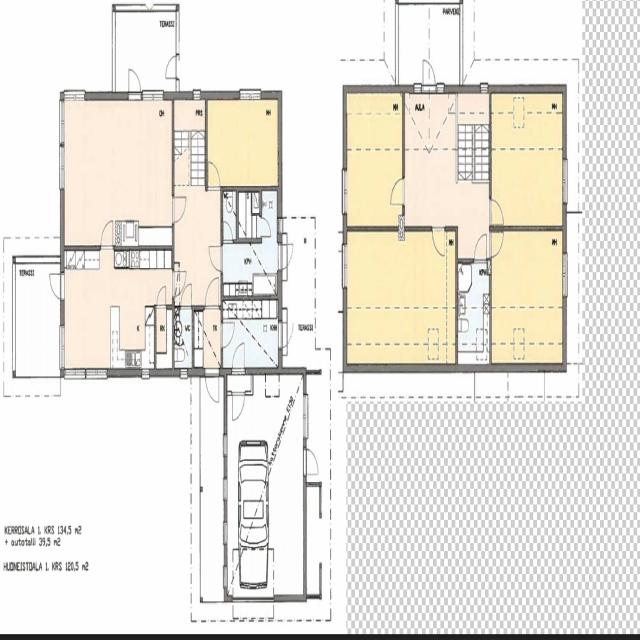door: (204, 368, 220, 408), (46, 273, 64, 300), (277, 243, 295, 270), (128, 65, 141, 100), (303, 448, 319, 476), (205, 277, 218, 310), (432, 226, 445, 259), (423, 59, 435, 93), (172, 271, 187, 298), (278, 321, 294, 346), (172, 197, 187, 223), (489, 232, 504, 258), (232, 342, 244, 374), (390, 178, 404, 205), (164, 54, 179, 79), (489, 200, 504, 225), (101, 219, 113, 250), (208, 160, 220, 190), (232, 392, 244, 422), (474, 234, 486, 263), (209, 247, 223, 271), (221, 324, 234, 348), (180, 284, 191, 310), (223, 219, 233, 244), (260, 216, 272, 236), (157, 287, 166, 311)
